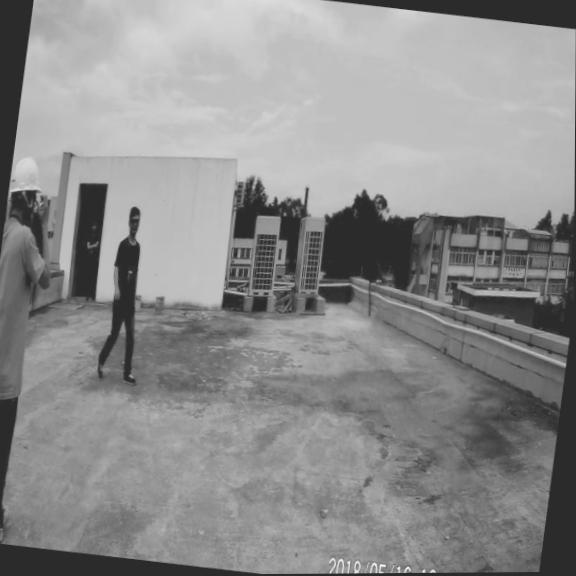no_safety_vest: (0, 207, 41, 390), (111, 229, 145, 323)
